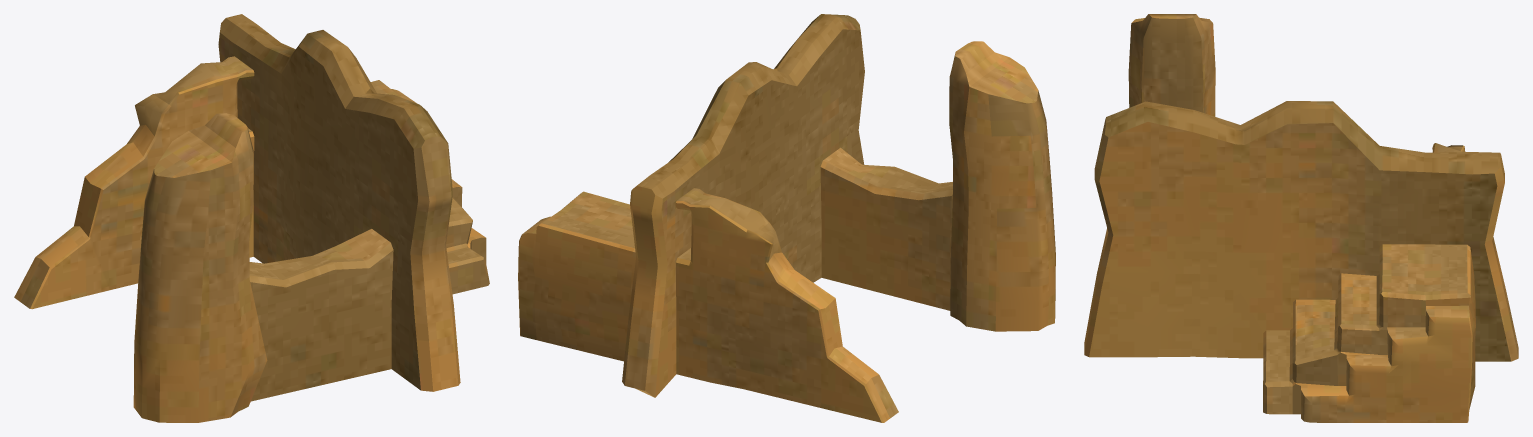
File: Khoone2_1.fbx
3 views of the same model, side by side, from view 1: azimuth 30°, elevation 25°; view 2: azimuth 150°, elevation 25°; view 3: azimuth 270°, elevation 25° (orthographic). The views are drawn at different scales.
Parts seen in each view (by area): view 1: pCube1; view 2: pCube1; view 3: pCube1.
Boxes of the visible parts, x1,y1,x2,y2 form: pCube1: [14, 14, 489, 422]; pCube1: [518, 14, 1055, 422]; pCube1: [1084, 14, 1518, 422].
Bounding box in the file's own units: 21.15 × 13.55 × 20.07.
